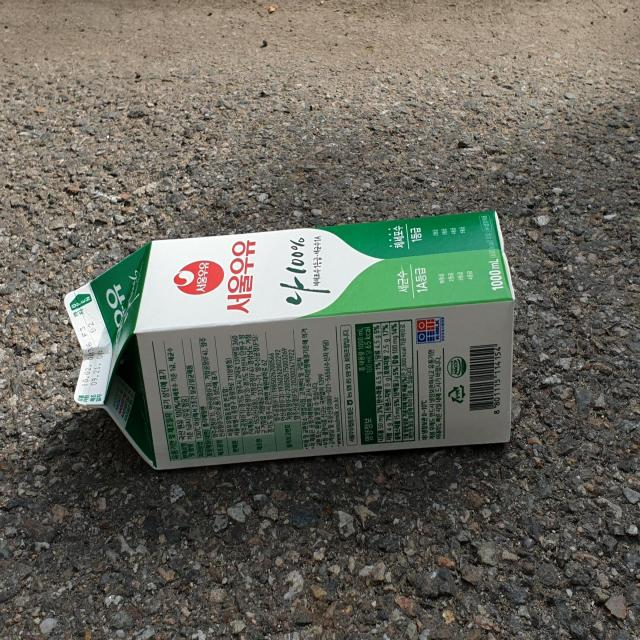paperpack: (64, 211, 515, 470)
